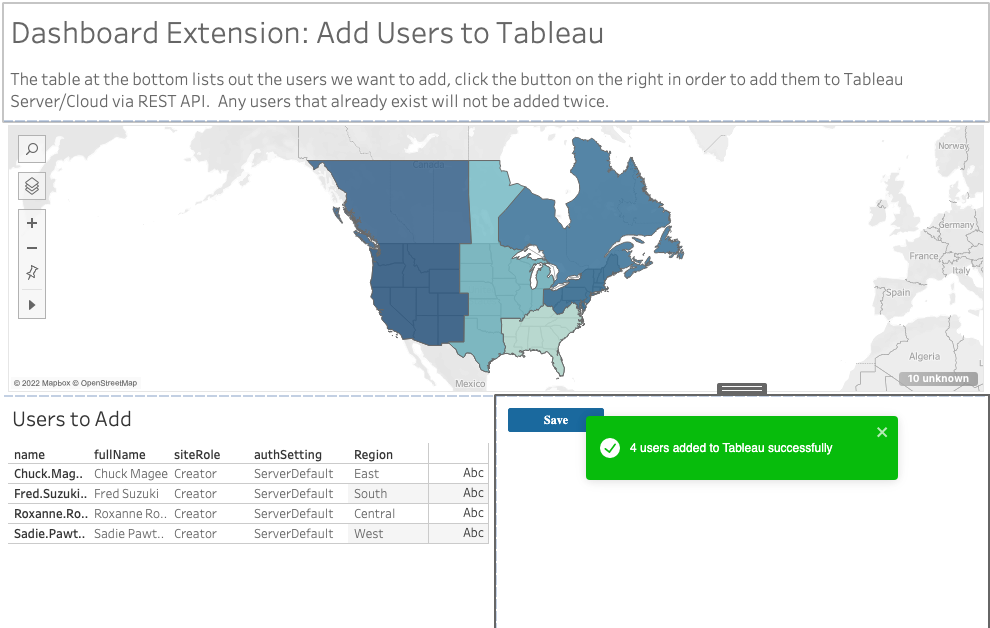

The page's visual inventory and layout, read from the dashboard file:
{"tool":"tableau","page":{"name":"Dashboard 1","canvas":[1000,800],"ordinal":0},"visuals":[{"type":"text","box":[8,8,984,117]},{"type":"worksheet","title":"Map","mark":"Multipolygon","box":[8,125,984,275]},{"type":"worksheet","title":"Users to Add","mark":"Automatic","rows":["Calculation_3039155714147028992","Regional Manager","Region"],"box":[8,400,492,392]},{"type":"dashboard-object","param":"[com.tableau.extensions.addusers].[0.6.0].[http://localhost:3000/]","box":[500,400,492,392]}]}

Visuals, with their boxes on the page's 1000x800 design canvas (x1, y1, x2, y2). These are canvas units, not pixel positions in the 990x628 screenshot, which may show the page scaled, cropped or inside an application window:
text: Rect(8, 8, 992, 125)
"Map" worksheet (Multipolygon marks): Rect(8, 125, 992, 400)
"Users to Add" worksheet: Rect(8, 400, 500, 792)
dashboard-object: Rect(500, 400, 992, 792)
